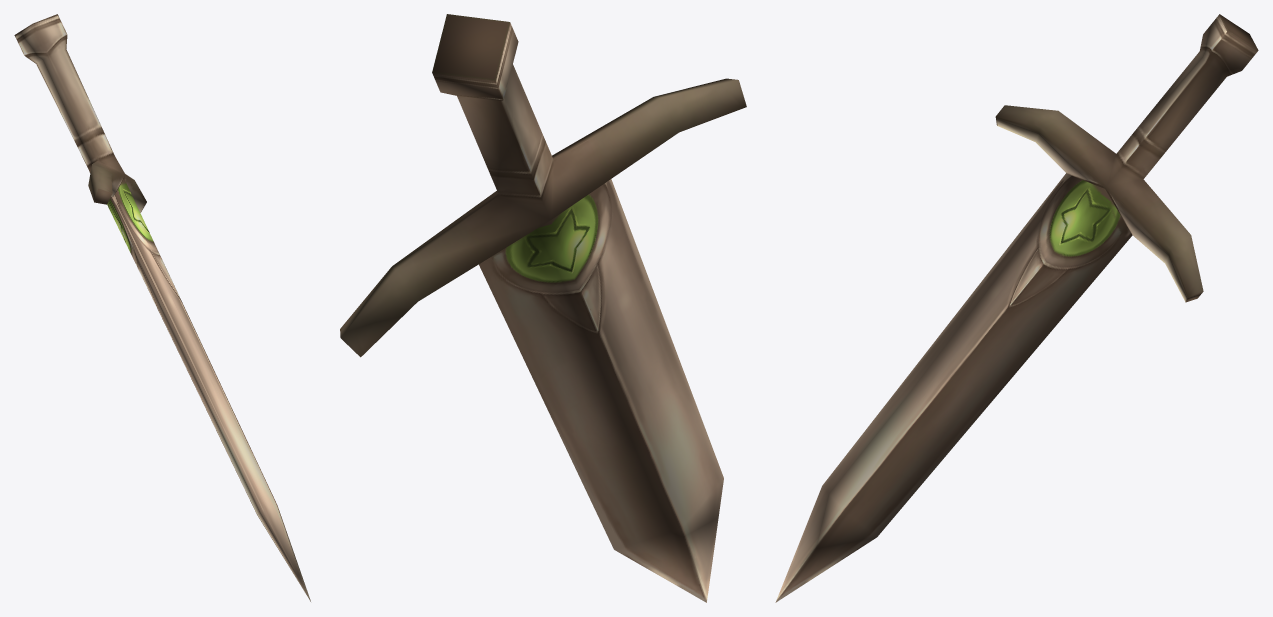
File: Sword(2).obj
3 views of the same model, side by side, from view 1: azimuth 30°, elevation 25°; view 2: azimuth 150°, elevation 25°; view 3: azimuth 270°, elevation 25° (orthographic). The views are drawn at different scales.
Visible parts, largest first — view 1: sword1_LOD003; view 2: sword1_LOD003; view 3: sword1_LOD003.
Part boxes in pixels (box(x1,y1,x2,y2)): sword1_LOD003: box(14, 14, 310, 601); sword1_LOD003: box(340, 14, 746, 602); sword1_LOD003: box(775, 14, 1258, 602).
Size of the model in its own units: 0.3242 by 1.09 by 0.8825.
